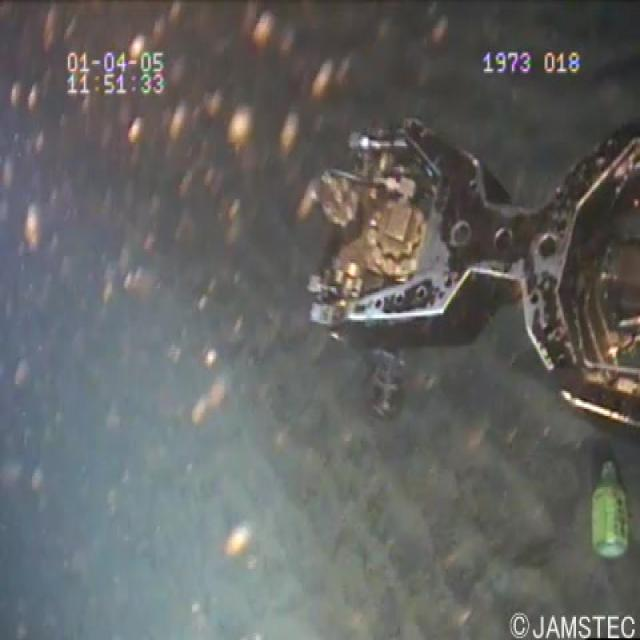plastic: (584, 446, 628, 564)
